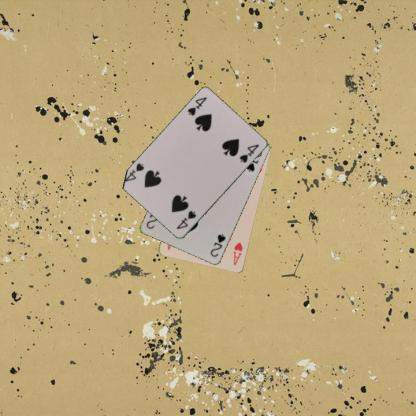2s: (208, 232, 227, 258)
4s: (174, 208, 198, 231), (185, 95, 208, 117)
Ah: (230, 240, 244, 267)
